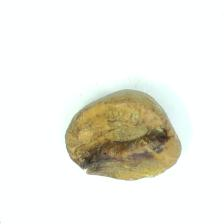NG: (75, 117, 172, 174)
